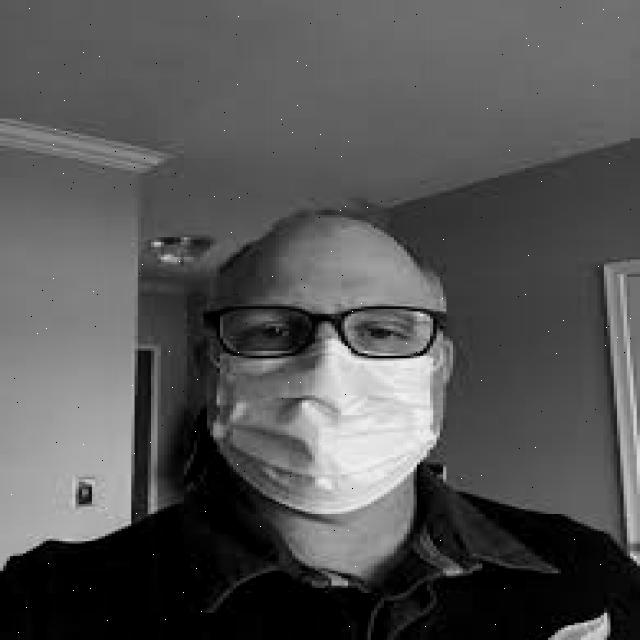fake: (198, 342, 444, 521)
real: (209, 208, 442, 527)
